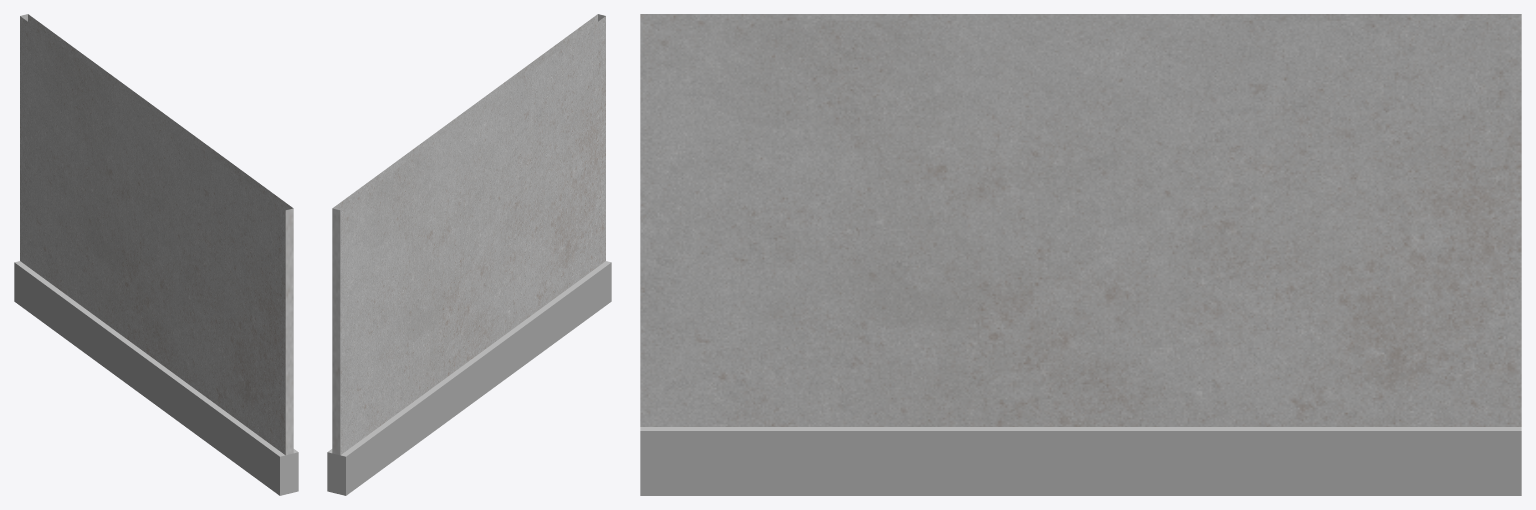
Rendered from SM_White_Red_Wall01F.fbx.
The picture shows the model from 3 angles, left to right: view 1: azimuth 30°, elevation 25°; view 2: azimuth 150°, elevation 25°; view 3: azimuth 270°, elevation 25°; orthographic projection. The views are drawn at different scales.
Visible parts, largest first — view 1: SM_White_Red_Wall01F; view 2: SM_White_Red_Wall01F; view 3: SM_White_Red_Wall01F.
Boxes of the visible parts, x1,y1,x2,y2 form: SM_White_Red_Wall01F: (14,14,298,495); SM_White_Red_Wall01F: (327,14,611,495); SM_White_Red_Wall01F: (640,14,1521,495).
Size of the model in its own units: 11.37 by 280 by 165.
